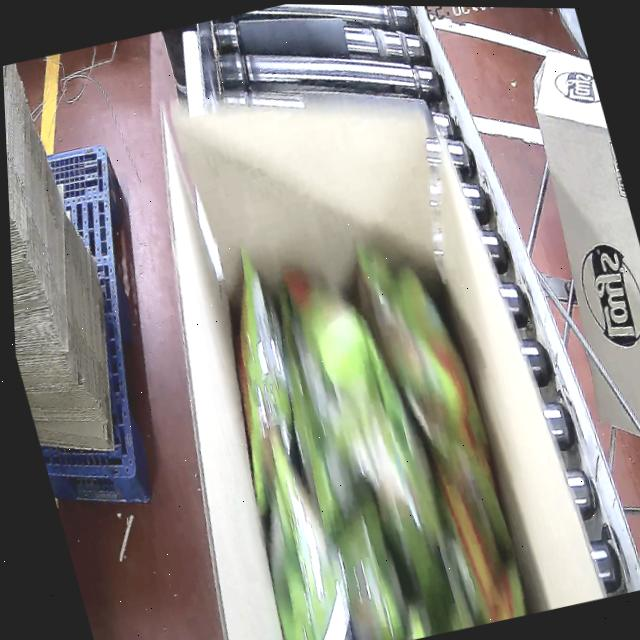YOGURT_HERB: (175, 201, 537, 640)
